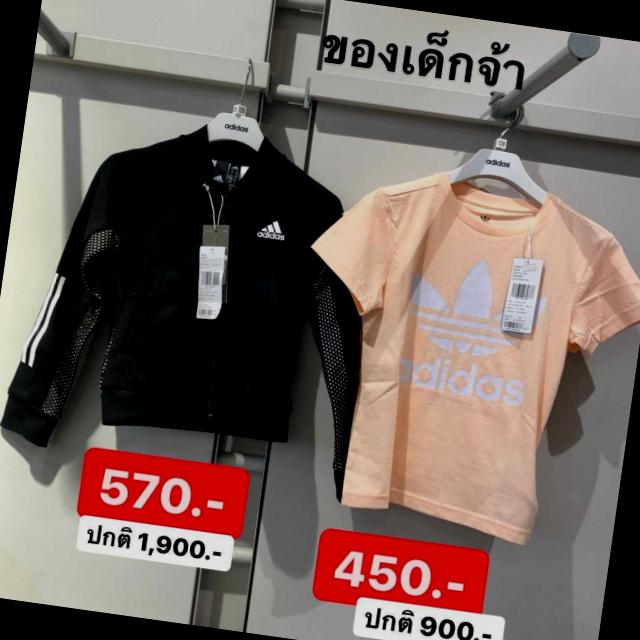Tshirt: (272, 144, 640, 568)
jacket: (0, 113, 426, 526)
